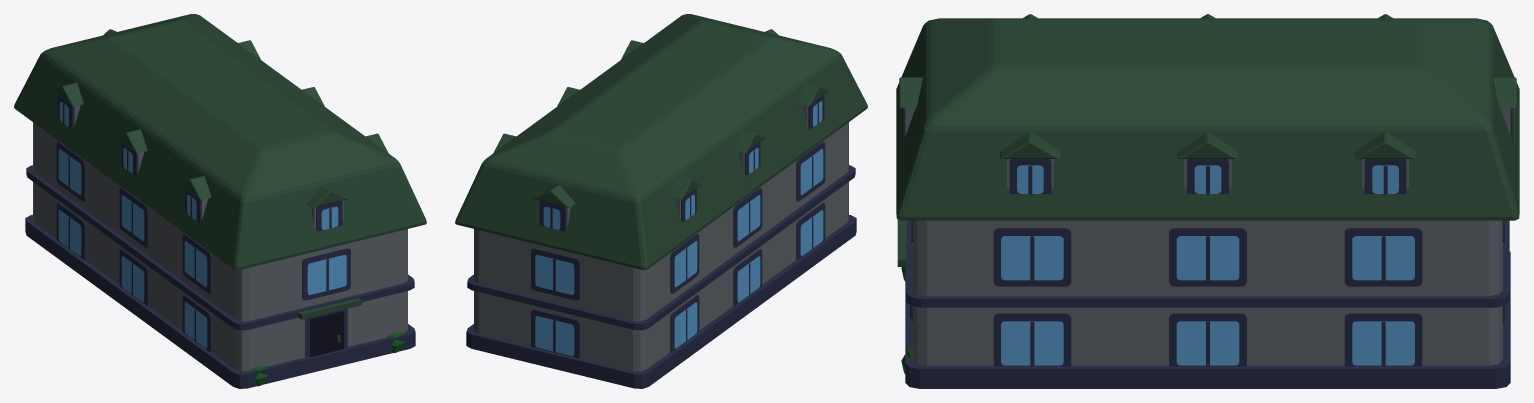
File: house-1x2-2f-mansard-d.glb
3 views of the same model, side by side, from view 1: azimuth 30°, elevation 25°; view 2: azimuth 150°, elevation 25°; view 3: azimuth 270°, elevation 25° (orthographic). The views are drawn at different scales.
Visible parts, largest first — view 1: house-1x2-2f-mansard-d; view 2: house-1x2-2f-mansard-d; view 3: house-1x2-2f-mansard-d.
Boxes of the visible parts, x1=… form: house-1x2-2f-mansard-d: x1=14, y1=14, x2=426, y2=388; house-1x2-2f-mansard-d: x1=455, y1=14, x2=867, y2=388; house-1x2-2f-mansard-d: x1=896, y1=14, x2=1519, y2=388.
Bounding box in the file's own units: 0.9876 × 1 × 1.99.
1 material, 1 textured.
